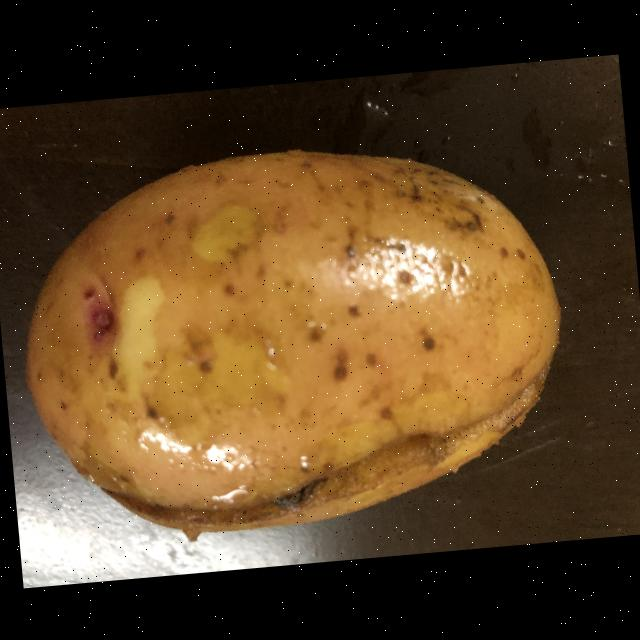Damaged potato: (11, 132, 576, 550)
